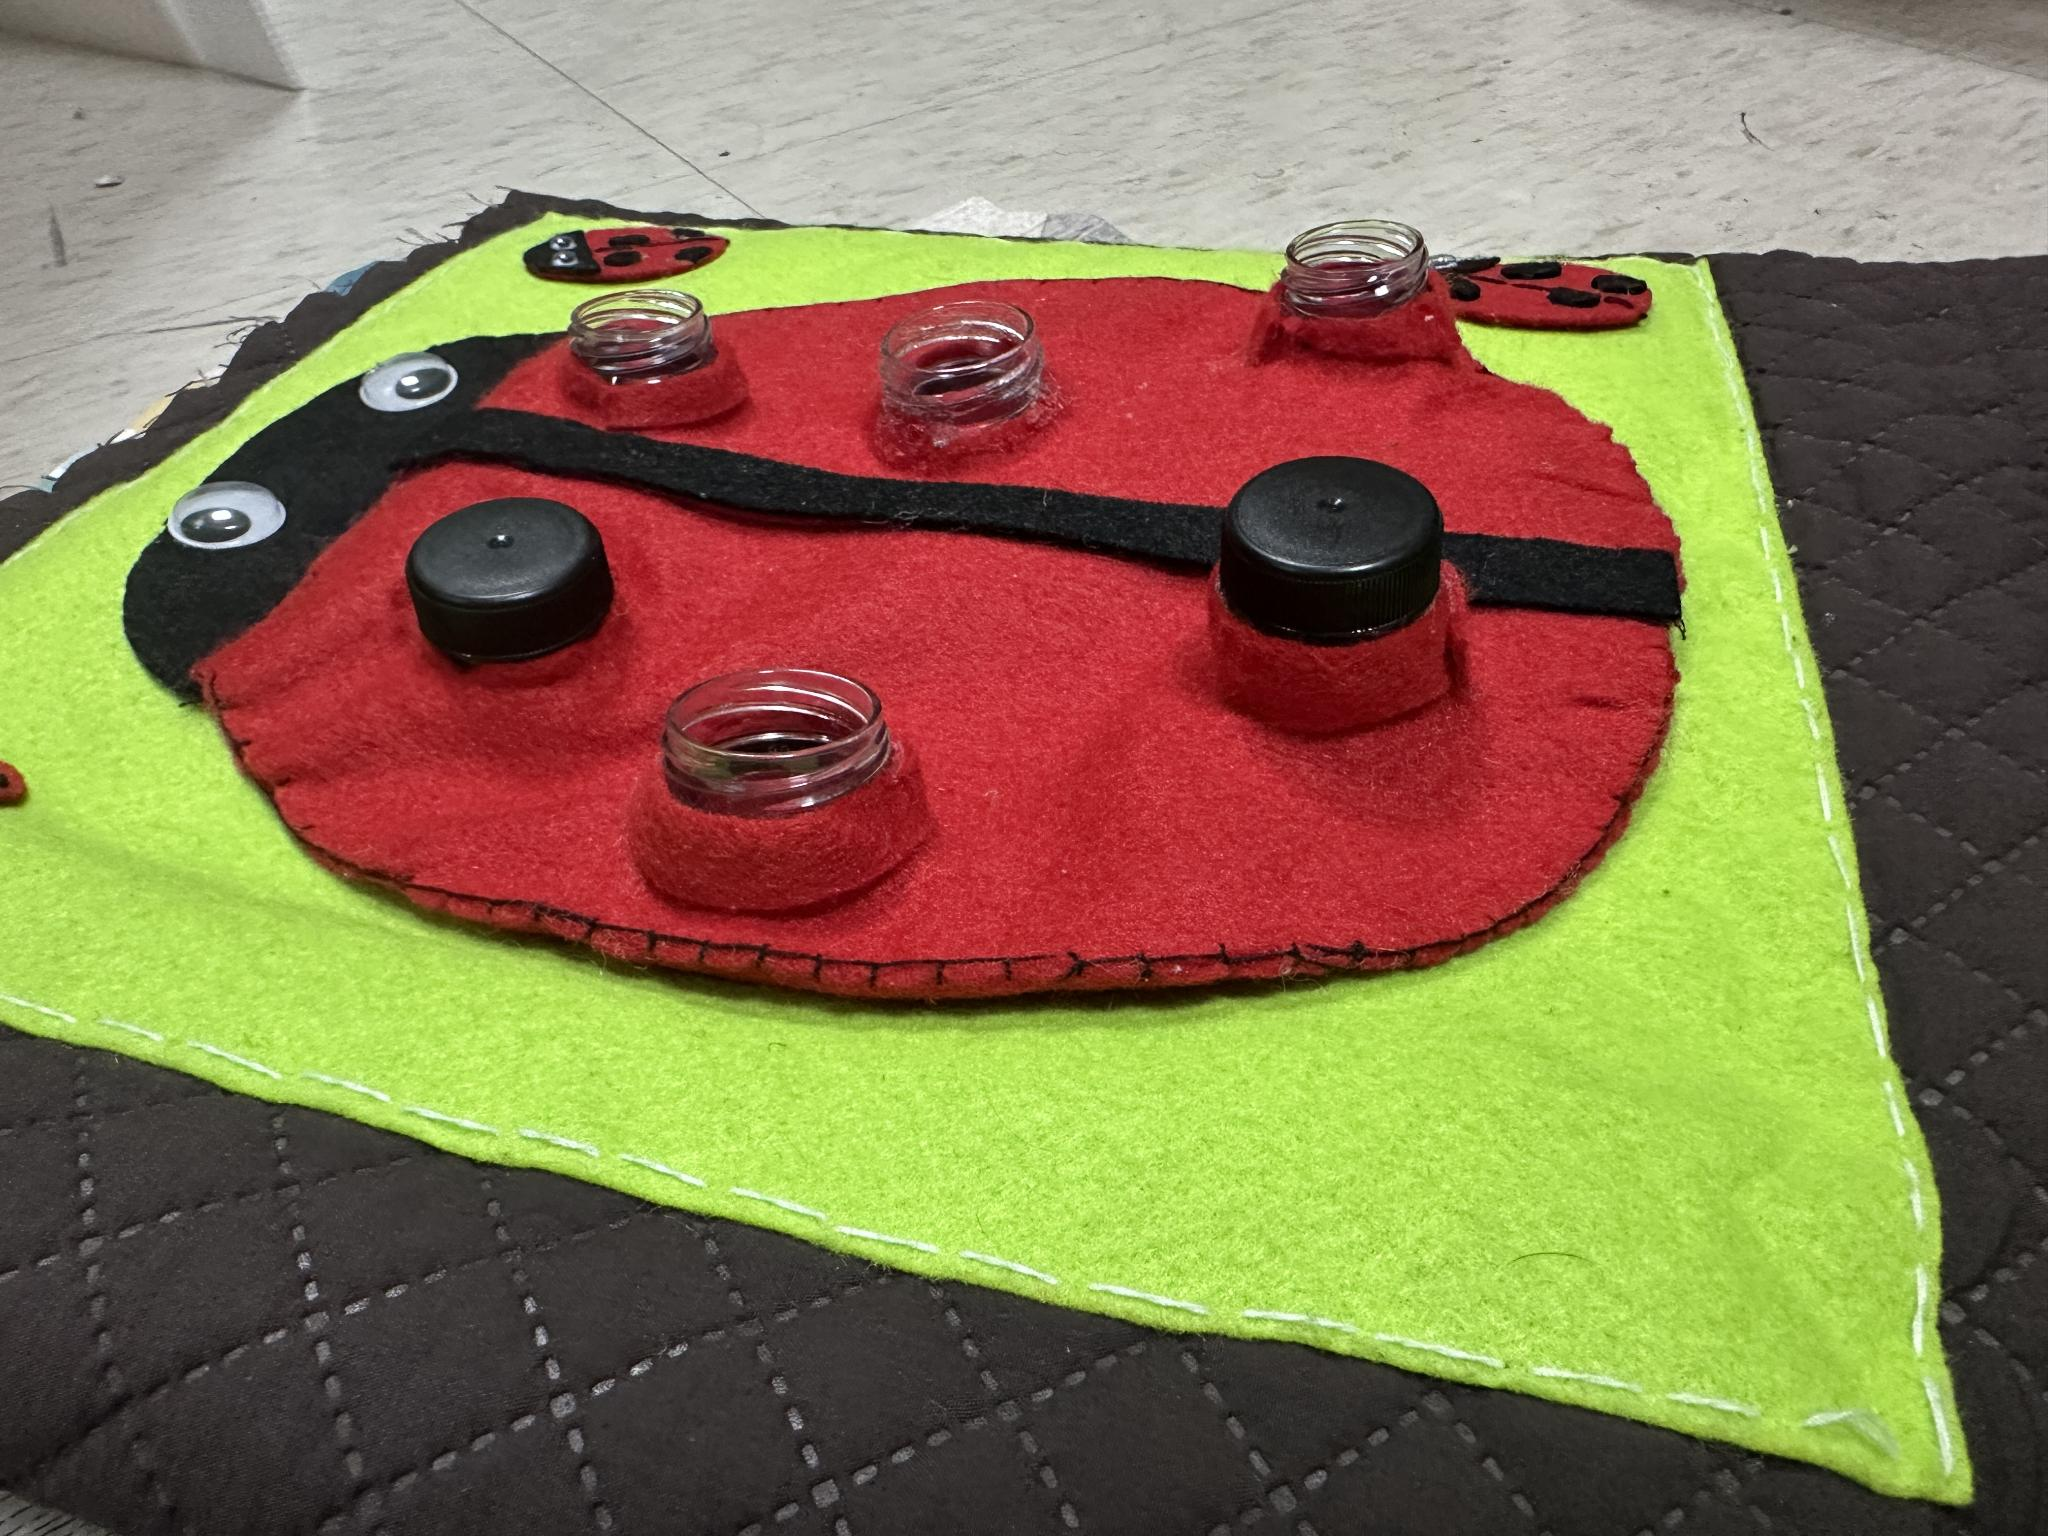cap_ok: (1164, 428, 1498, 749), (376, 479, 658, 695)
